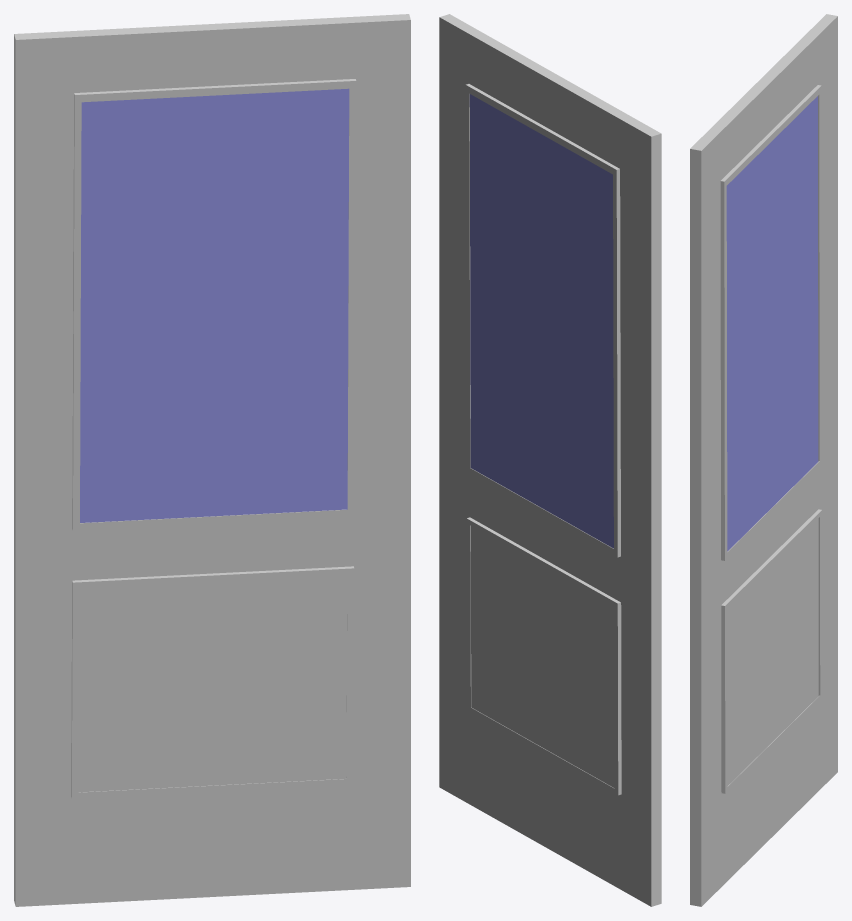
File: DoorInside.fbx
3 renders of one model, left to right at view 1: azimuth 30°, elevation 25°; view 2: azimuth 150°, elevation 25°; view 3: azimuth 270°, elevation 25°, orthographic. The views are drawn at different scales.
Visible parts, largest first — view 1: Door; view 2: Door; view 3: Door.
Part boxes in pixels (x1,y1,x2,y2): Door: (14, 14, 410, 906); Door: (439, 14, 661, 906); Door: (690, 14, 837, 906).
Bounding box in the file's own units: 6.44 × 16.6 × 2.94.
